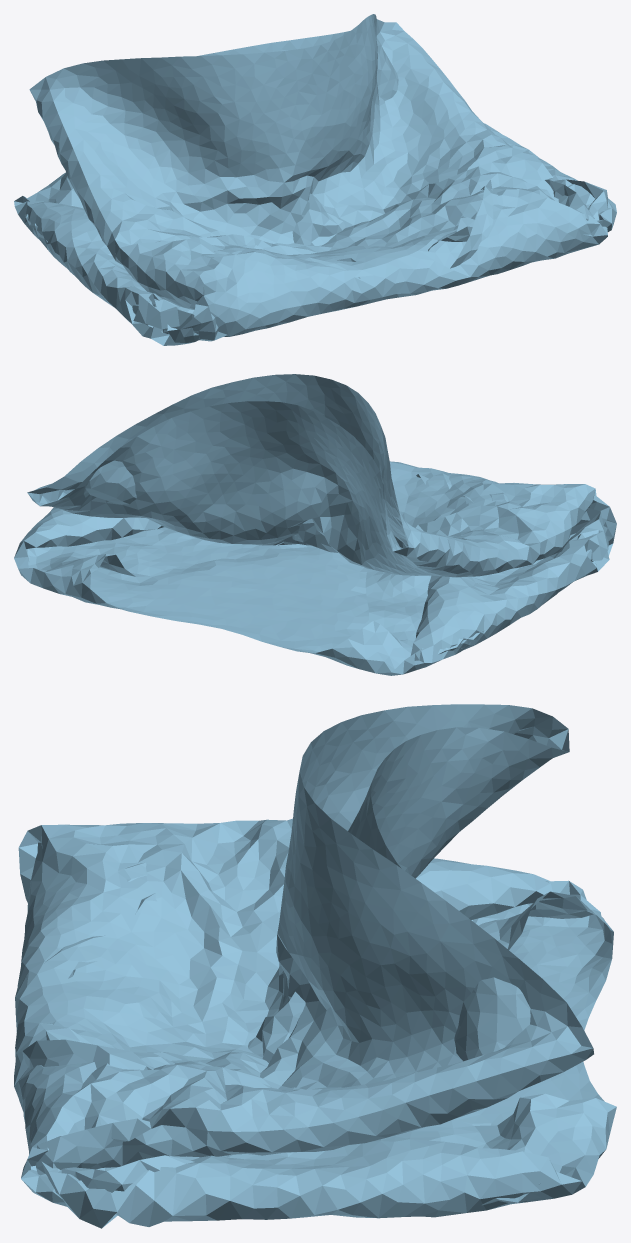
File: frame_19.glb
3 renders of one model, top to bottom at view 1: azimuth 30°, elevation 25°; view 2: azimuth 150°, elevation 25°; view 3: azimuth 270°, elevation 25°, orthographic. The views are drawn at different scales.
Visible parts, largest first — view 1: frame_19.obj; view 2: frame_19.obj; view 3: frame_19.obj.
Part boxes in pixels (x1,y1,x2,y2): frame_19.obj: (14,14,616,345); frame_19.obj: (14,374,616,675); frame_19.obj: (14,704,616,1228).
Size of the model in its own units: 1.21 by 0.4722 by 0.879.
